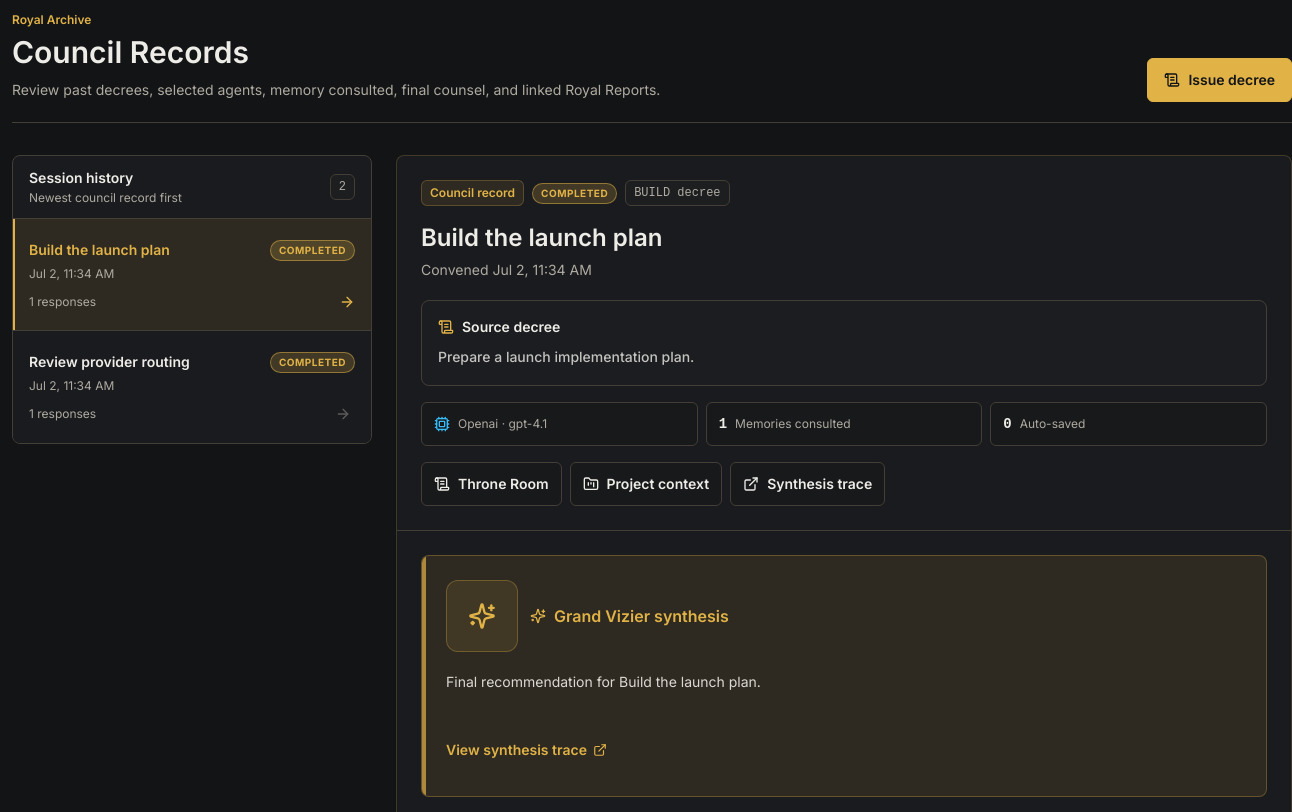
it: CouncilPage › changes the evidence pane when a different session is selected
Click the button "Review provider routing": (109, 362) [13, 331, 371, 443]
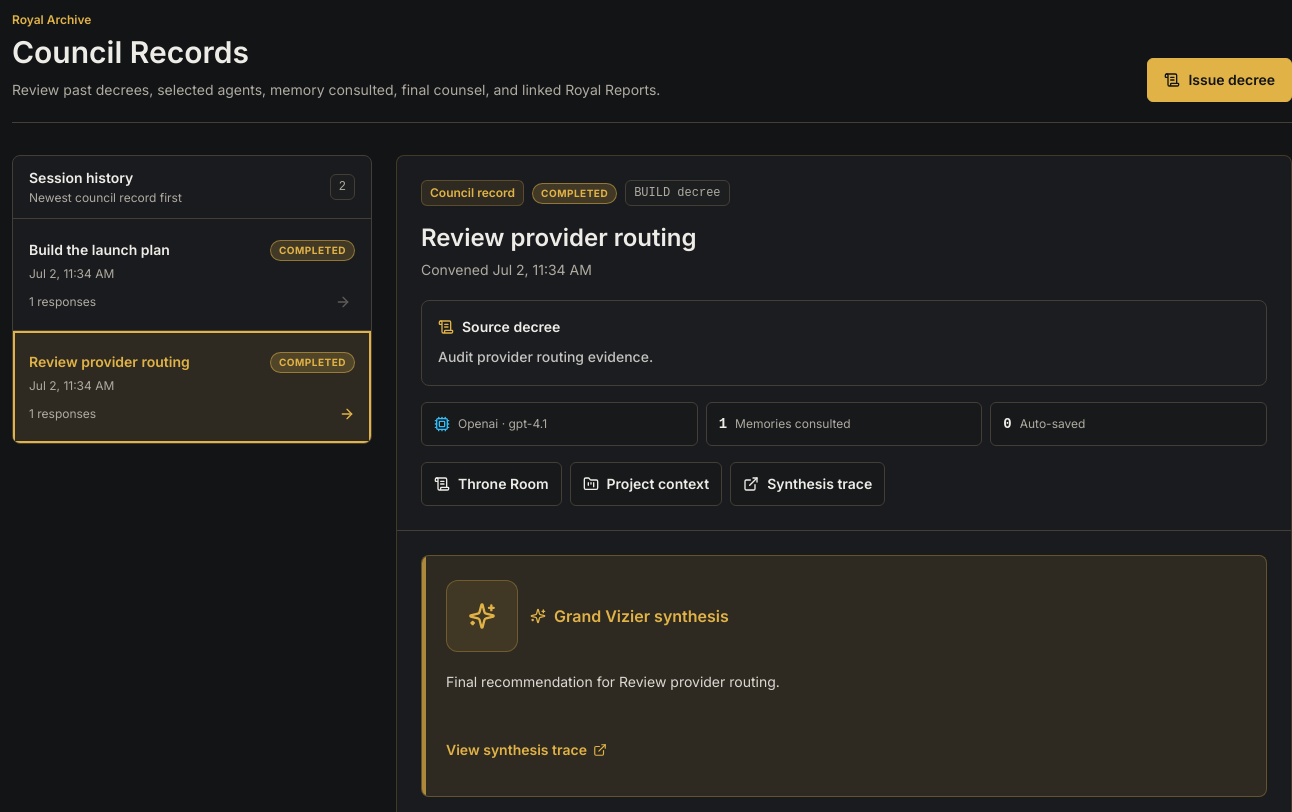
Check: the text "Audit provider routing evidence." is shown, box [438, 348, 653, 365]
